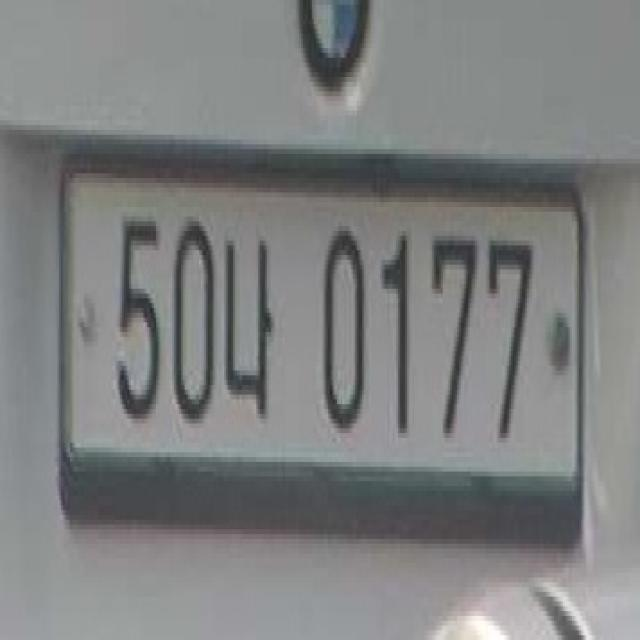0: (316, 224, 366, 446), (170, 212, 214, 422)
1: (376, 211, 414, 460)
5: (111, 198, 160, 426)
7: (423, 223, 480, 452), (484, 236, 538, 449)
license_plate: (64, 152, 592, 548)
na: (222, 226, 274, 434)
